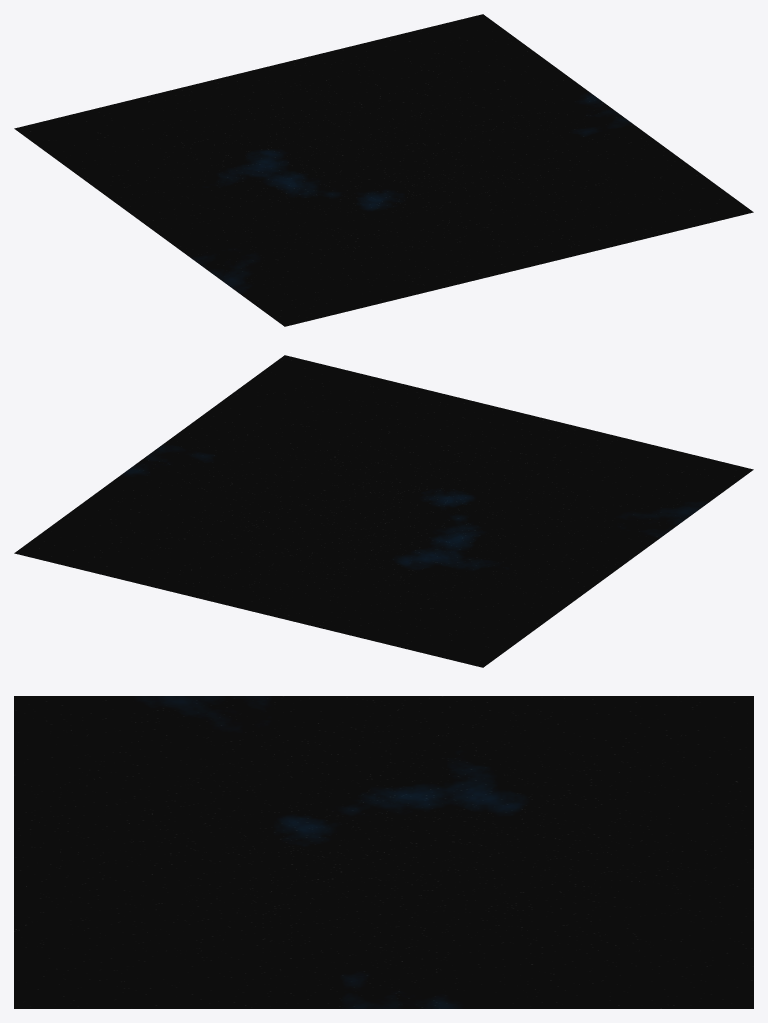
Rendered from skyplane.obj.
The picture shows the model from 3 angles, top to bottom: view 1: azimuth 30°, elevation 25°; view 2: azimuth 150°, elevation 25°; view 3: azimuth 270°, elevation 25°; orthographic projection. The views are drawn at different scales.
Visible parts, largest first — view 1: Plane; view 2: Plane; view 3: Plane.
Boxes of the visible parts, x1=… form: Plane: x1=14, y1=14, x2=753, y2=326; Plane: x1=14, y1=355, x2=753, y2=667; Plane: x1=14, y1=696, x2=753, y2=1008.
Bounding box in the file's own units: 40.62 × 0 × 40.62.
1 material, 1 textured.
